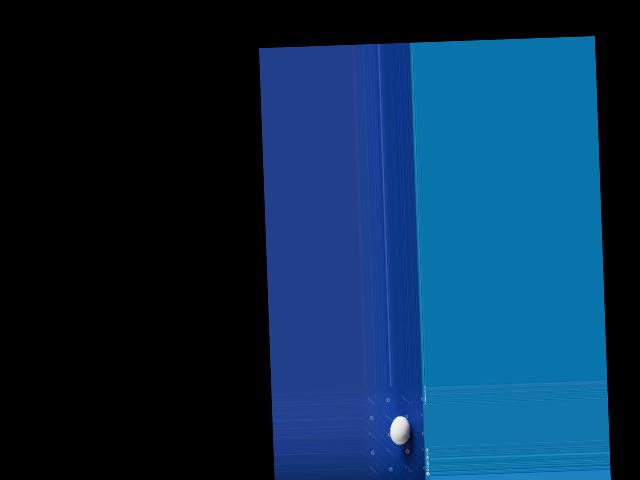egg: (390, 415, 411, 444)
